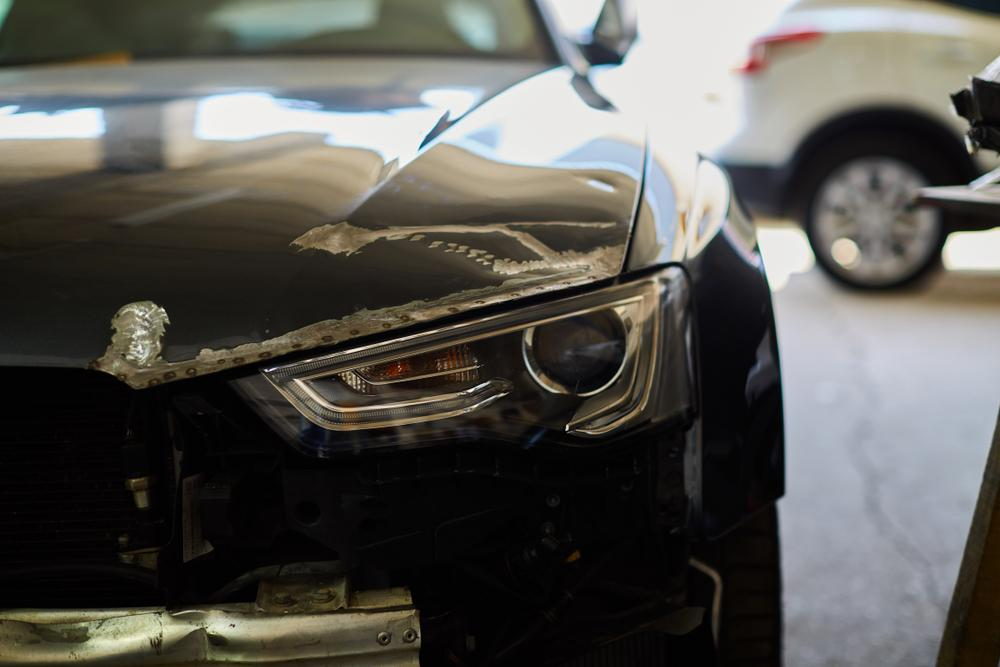scratch: (93, 214, 632, 388)
